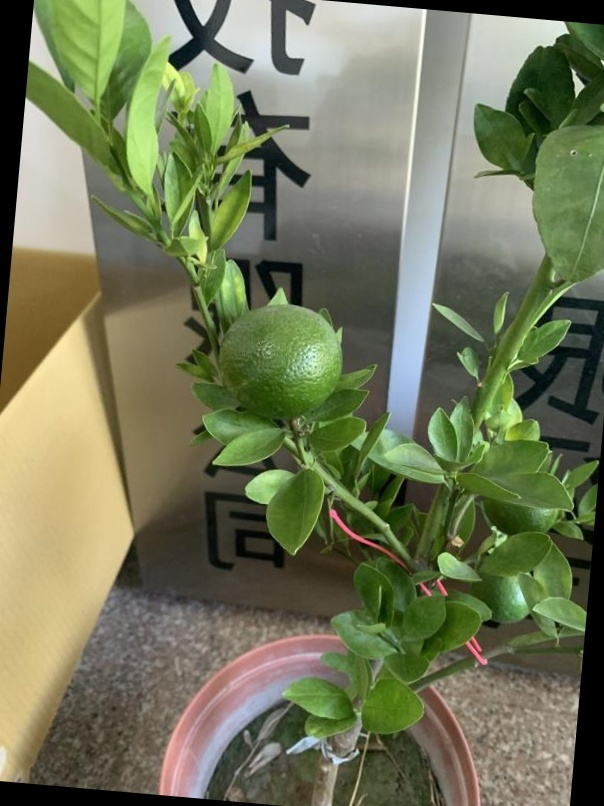Tangerine: (218, 301, 344, 423)
